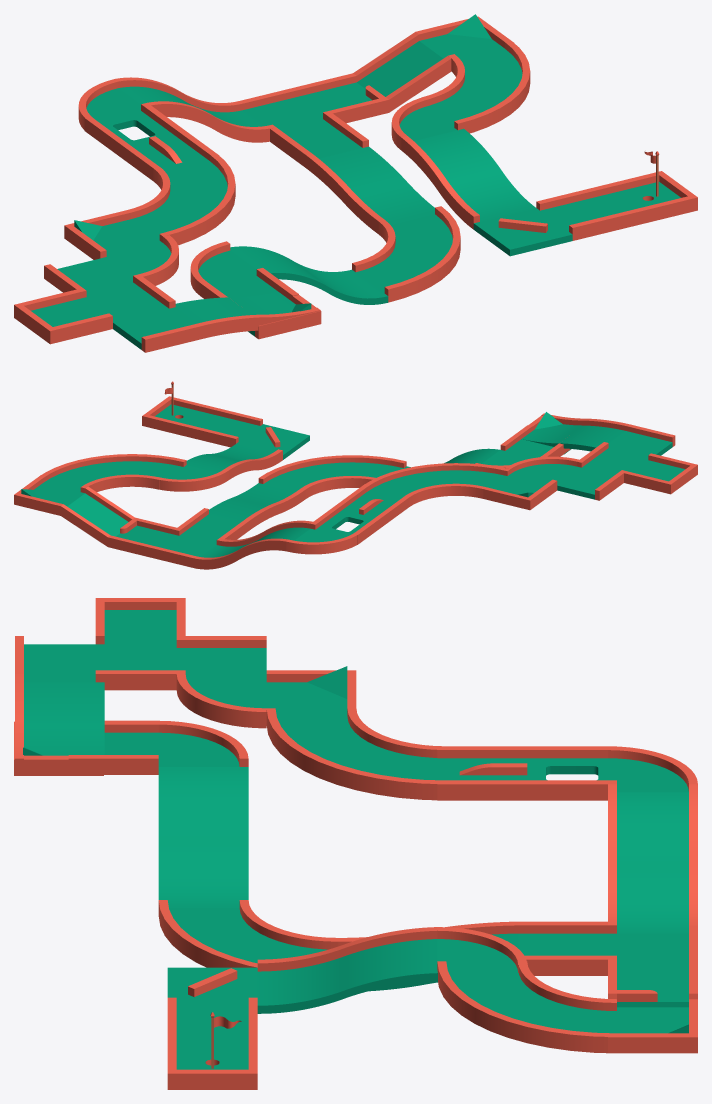
The model's file is Level15.fbx.
3 views of the same model, one above another, from view 1: azimuth 30°, elevation 25°; view 2: azimuth 150°, elevation 25°; view 3: azimuth 270°, elevation 25° (orthographic). The views are drawn at different scales.
Parts seen in each view (by area): view 1: bend_large (×3), side (×4), slope_side_smoothA_long (×2), bend_open (×4), straight (×3), corner_hill (×3), slope_side_smoothB_long, slope_smoothD_long, slope_straightB, end, slope_center_smoothD_long, end_hole (+4 smaller); view 2: bend_large (×3), side (×4), slope_side_smoothA_long (×2), bend_open (×4), straight (×3), corner_hill (×3), slope_smoothD_long, slope_straightB, end, slope_side_smoothB_long, end_hole, straight_gap (+4 smaller); view 3: bend_large (×3), side (×4), bend_open (×4), slope_smoothD_long, slope_center_smoothD_long, straight (×3), corner_hill (×3), slope_side_smoothB_long, slope_side_smoothA_long (×2), straight_midEnd, straight_hole, end_hole (+3 smaller).
Part boxes in pixels (x1=…): bend_large (×3): x1=127, y1=41, x2=530, y2=302; side (×4): x1=44, y1=87, x2=325, y2=352; slope_side_smoothA_long (×2): x1=175, y1=146, x2=434, y2=337; bend_open (×4): x1=78, y1=79, x2=463, y2=295; straight (×3): x1=200, y1=113, x2=635, y2=301; corner_hill (×3): x1=64, y1=14, x2=513, y2=339; slope_side_smoothB_long: x1=401, y1=129, x2=535, y2=229; slope_smoothD_long: x1=115, y1=77, x2=275, y2=142; slope_straightB: x1=353, y1=32, x2=451, y2=112; end: x1=14, y1=289, x2=112, y2=344; slope_center_smoothD_long: x1=230, y1=246, x2=388, y2=304; end_hole: x1=599, y1=171, x2=697, y2=225; bend_large (×3): x1=42, y1=454, x2=510, y2=506; side (×4): x1=150, y1=424, x2=675, y2=568; slope_side_smoothA_long (×2): x1=209, y1=413, x2=627, y2=528; bend_open (×4): x1=155, y1=450, x2=579, y2=554; straight (×3): x1=177, y1=407, x2=570, y2=542; corner_hill (×3): x1=14, y1=412, x2=571, y2=515; slope_smoothD_long: x1=193, y1=520, x2=312, y2=569; slope_straightB: x1=61, y1=486, x2=134, y2=546; end: x1=624, y1=453, x2=697, y2=494; slope_side_smoothB_long: x1=186, y1=444, x2=282, y2=479; end_hole: x1=142, y1=396, x2=215, y2=437; straight_gap: x1=108, y1=517, x2=181, y2=558; bend_large (×3): x1=158, y1=708, x2=616, y2=1053; side (×4): x1=15, y1=636, x2=697, y2=963; bend_open (×4): x1=158, y1=674, x2=697, y2=981; slope_smoothD_long: x1=608, y1=784, x2=697, y2=933; slope_center_smoothD_long: x1=158, y1=767, x2=248, y2=907; straight (×3): x1=68, y1=720, x2=607, y2=1043; corner_hill (×3): x1=14, y1=666, x2=697, y2=1053; slope_side_smoothB_long: x1=257, y1=927, x2=437, y2=1013; slope_side_smoothA_long (×2): x1=15, y1=674, x2=518, y2=991; straight_midEnd: x1=437, y1=746, x2=527, y2=800; straight_hole: x1=527, y1=746, x2=616, y2=800; end_hole: x1=167, y1=1035, x2=257, y2=1089.
Bounding box in the file's own units: 108 × 13 × 76.1.
